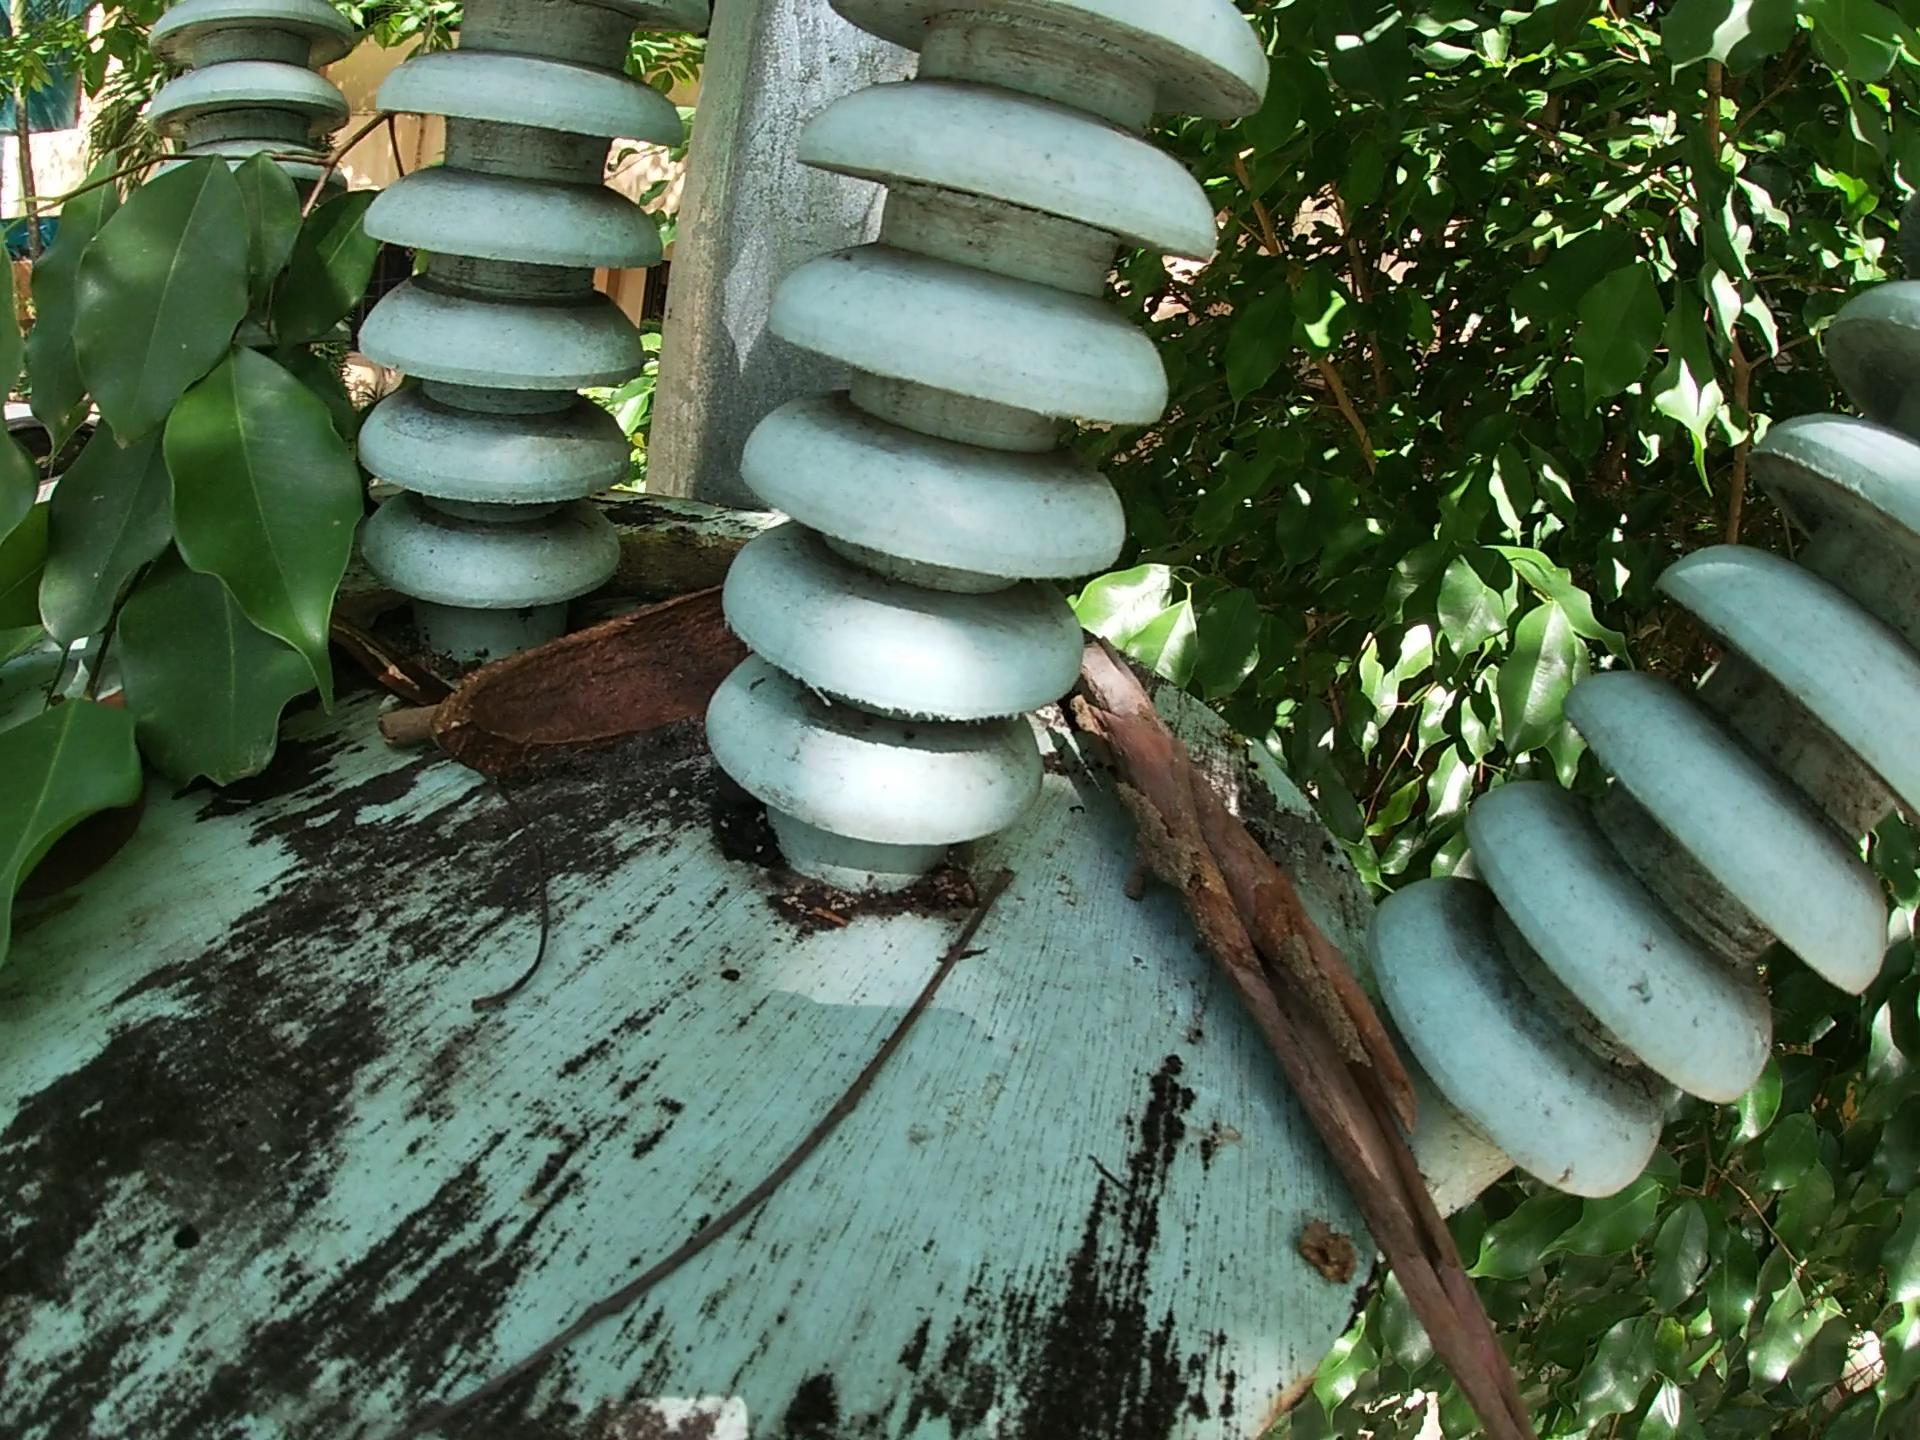branch with leaves: (2, 88, 451, 1009)
leaf: (330, 573, 454, 705)
mahogany fruit: (441, 590, 766, 761)
tree branch: (1058, 619, 1627, 1440), (246, 858, 1027, 1440), (460, 761, 565, 1044), (600, 522, 730, 579), (373, 708, 437, 759)
